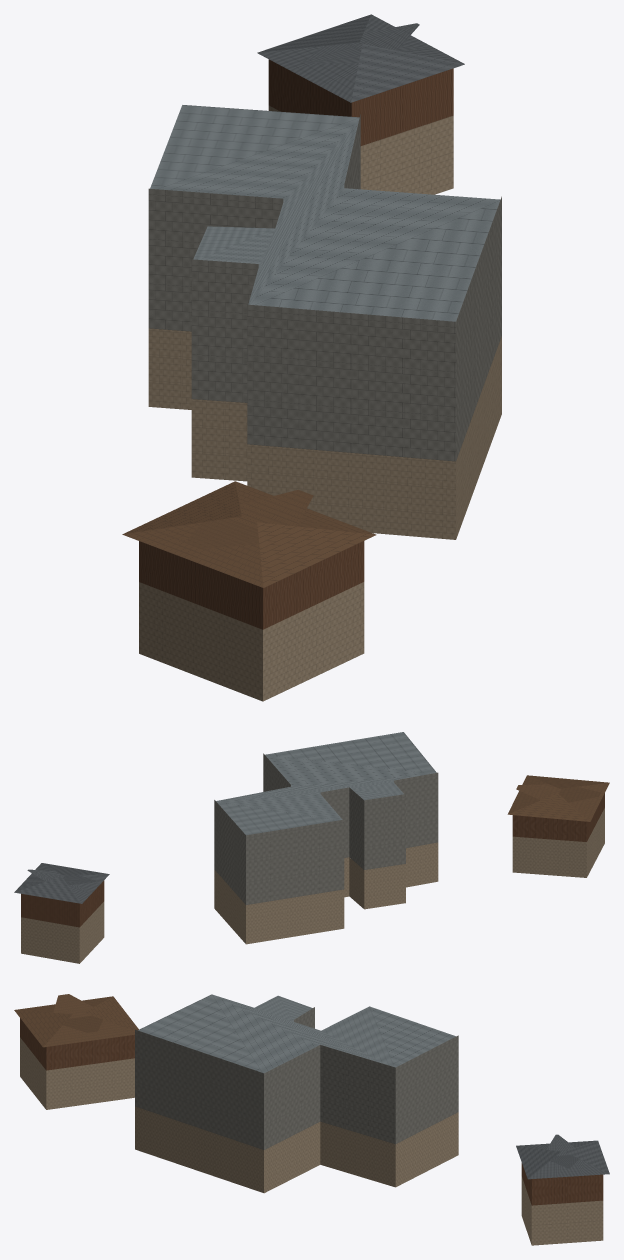
The model's file is bld_c6_38_526.gltf.
3 views of the same model, one above another, from view 1: azimuth 30°, elevation 25°; view 2: azimuth 150°, elevation 25°; view 3: azimuth 270°, elevation 25° (orthographic). The views are drawn at different scales.
Parts seen in each view (by area): view 1: bld_c6_38_526; view 2: bld_c6_38_526; view 3: bld_c6_38_526.
Boxes of the visible parts, left/top/right/bottom form: bld_c6_38_526: left=122, top=14, right=501, bottom=701; bld_c6_38_526: left=14, top=732, right=609, bottom=963; bld_c6_38_526: left=14, top=994, right=609, bottom=1245.
Size of the model in its own units: 49 by 14.98 by 63.86.
7 materials, 7 textured.
